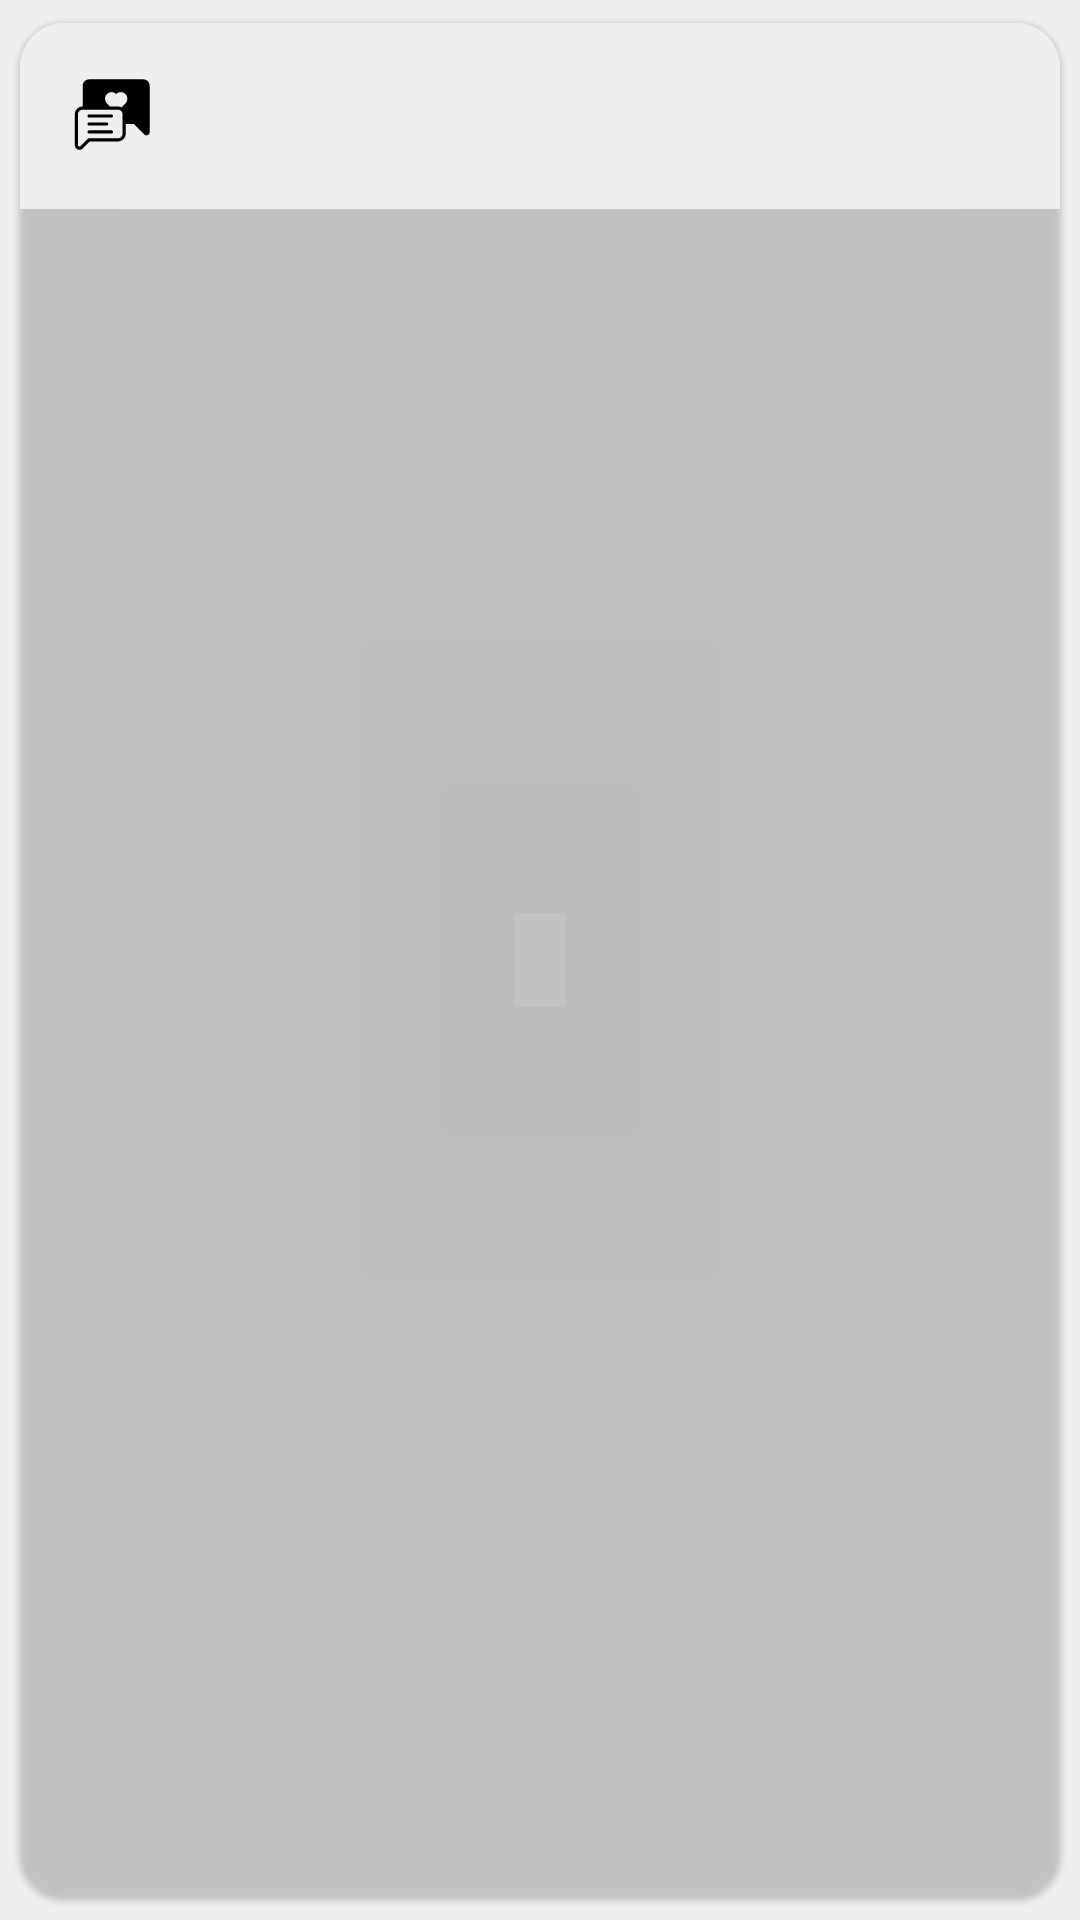

Screen size 1080*1920. Icon name, then its box in pixels as (x1, y1, x2, y2):
chat: (74, 79, 150, 150)
